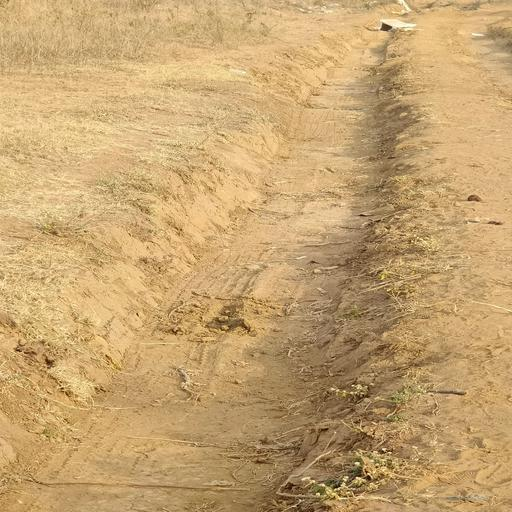vehicle_track: (0, 40, 385, 512)
